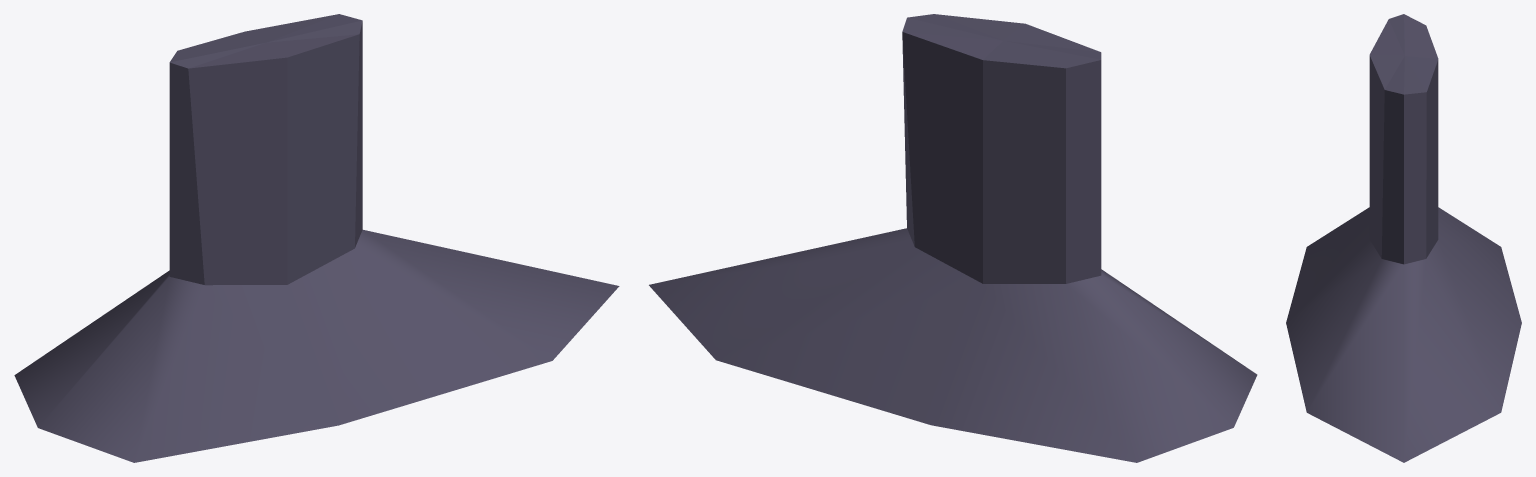
File: MageFoot.fbx
3 views of the same model, side by side, from view 1: azimuth 30°, elevation 25°; view 2: azimuth 150°, elevation 25°; view 3: azimuth 270°, elevation 25° (orthographic). The views are drawn at different scales.
Visible parts, largest first — view 1: polySurface288; view 2: polySurface288; view 3: polySurface288.
Part boxes in pixels (left/top/right/bottom): polySurface288: left=14, top=14, right=619, bottom=462; polySurface288: left=649, top=14, right=1257, bottom=462; polySurface288: left=1286, top=14, right=1521, bottom=462.
Bounding box in the file's own units: 124 × 68.05 × 53.76.
